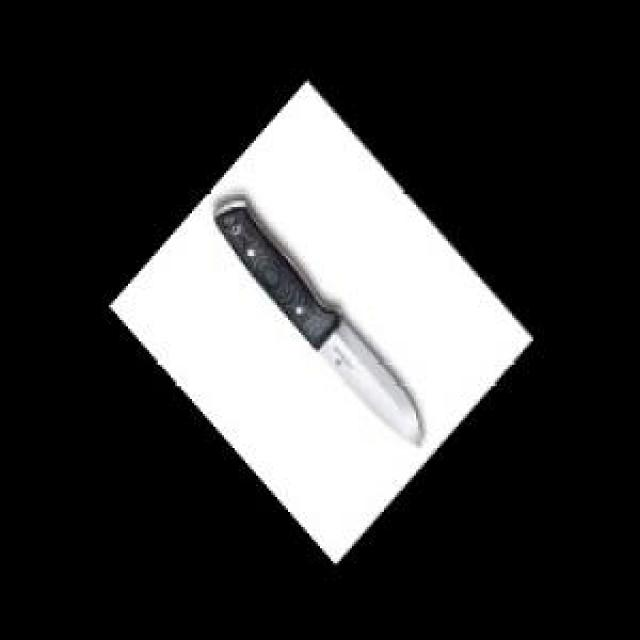knife: (209, 192, 429, 439)
